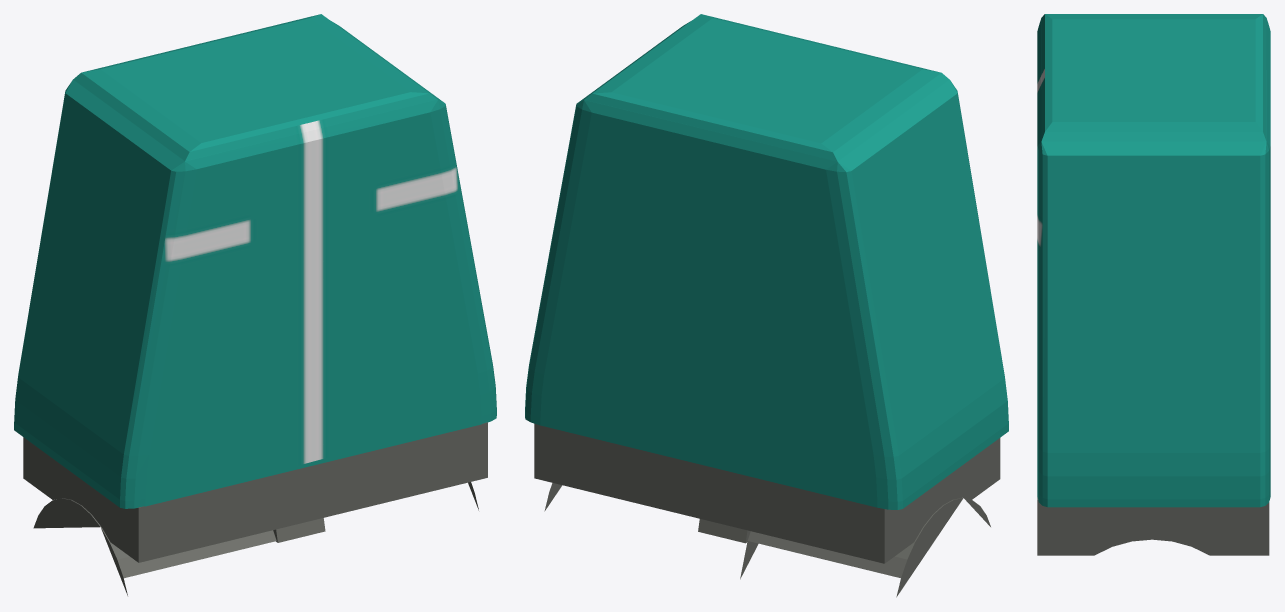
Rendered from torso.glb.
3 renders of one model, left to right at view 1: azimuth 30°, elevation 25°; view 2: azimuth 150°, elevation 25°; view 3: azimuth 270°, elevation 25°, orthographic.
Visible parts, largest first — view 1: player_torso; view 2: player_torso; view 3: player_torso.
Part boxes in pixels (bbox=[...]): player_torso: bbox=[14, 14, 496, 595]; player_torso: bbox=[525, 14, 1008, 597]; player_torso: bbox=[1037, 14, 1270, 555].
Size of the model in its own units: 0.6858 by 0.7937 by 0.3654.
3 materials, 1 textured.
